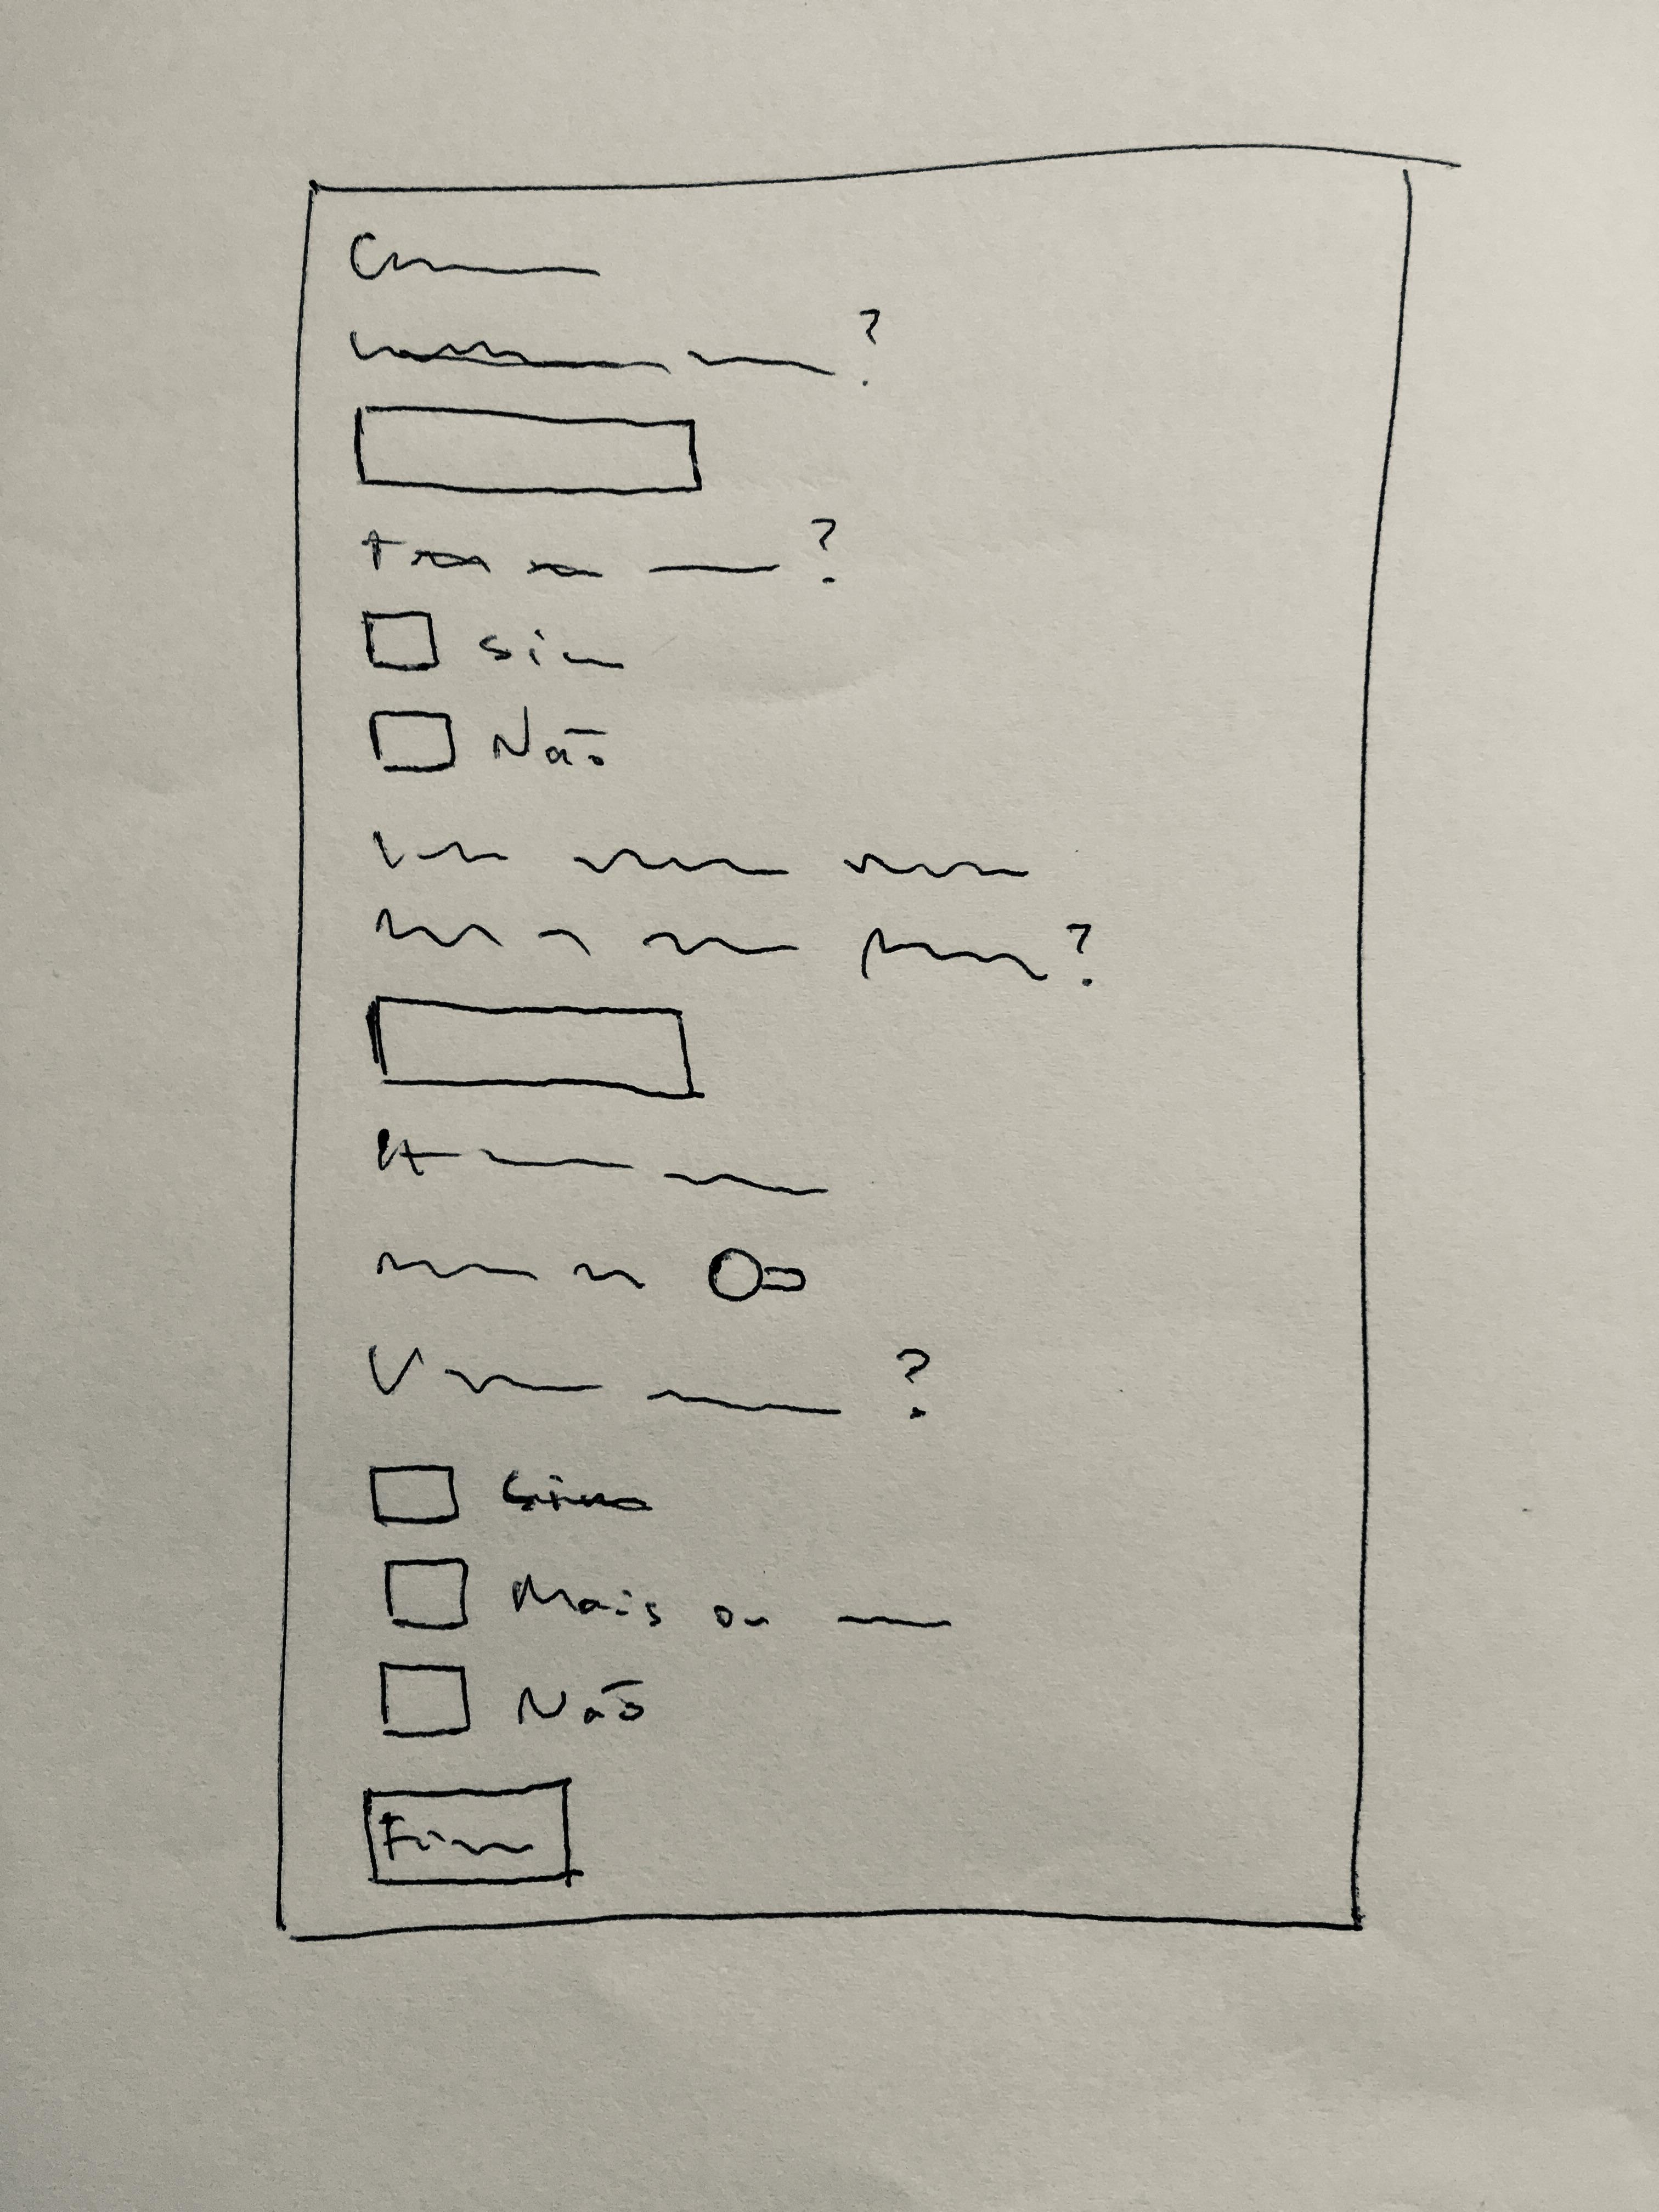Button: (362, 1777, 573, 1888)
CheckBox: (383, 1559, 948, 1630), (380, 1662, 643, 1738), (369, 1463, 652, 1524), (368, 705, 610, 772), (362, 610, 624, 671)
Label: (376, 906, 1093, 986), (366, 1341, 929, 1420), (349, 308, 880, 388), (362, 517, 836, 587), (376, 1129, 826, 1198), (371, 831, 1035, 878), (349, 232, 603, 282)
Screen: (277, 145, 1413, 1942)
Switch: (375, 1244, 805, 1303)
TextBox: (366, 995, 694, 1097), (354, 406, 701, 495)
